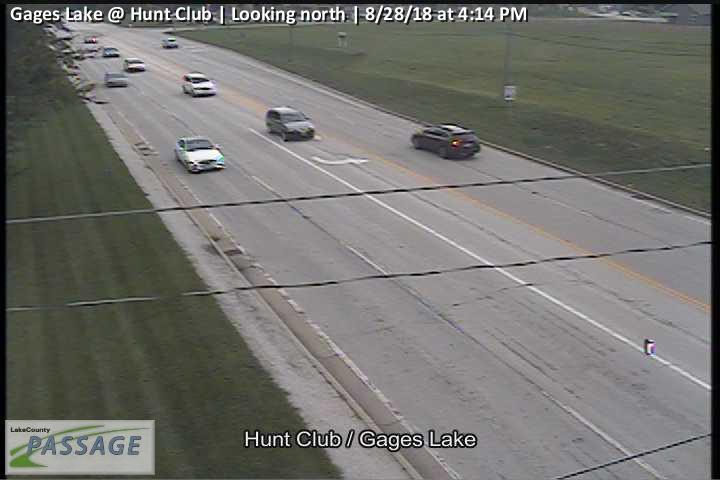SUV: (410, 123, 481, 160), (266, 107, 314, 143), (183, 72, 216, 96), (161, 38, 178, 47)
Sedan: (175, 137, 224, 173), (104, 72, 128, 87), (123, 57, 145, 71), (102, 46, 119, 58)
